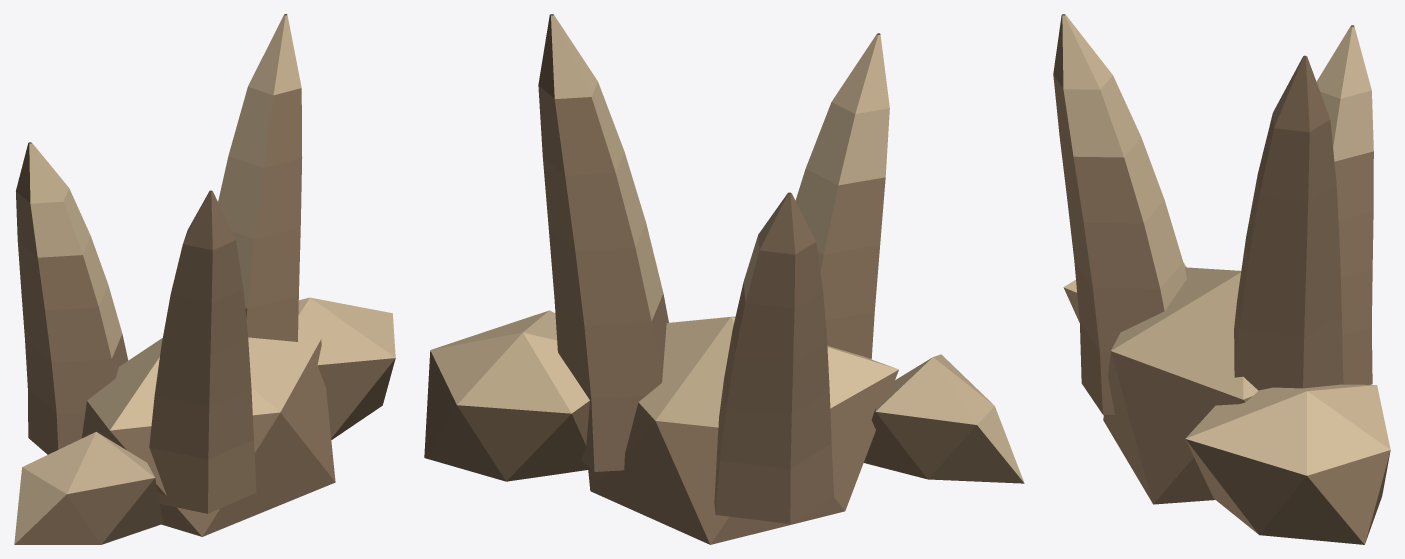
The model's file is EL_earth_rocks.glb.
The picture shows the model from 3 angles, left to right: view 1: azimuth 30°, elevation 25°; view 2: azimuth 150°, elevation 25°; view 3: azimuth 270°, elevation 25°; orthographic projection. The views are drawn at different scales.
Parts seen in each view (by area): view 1: EL_earth_rocks; view 2: EL_earth_rocks; view 3: EL_earth_rocks.
Part boxes in pixels (<box>): EL_earth_rocks: <box>14,14,395,544</box>; EL_earth_rocks: <box>424,14,1024,544</box>; EL_earth_rocks: <box>1053,14,1390,544</box>.
Size of the model in its own units: 2.74 by 2.38 by 1.59.
